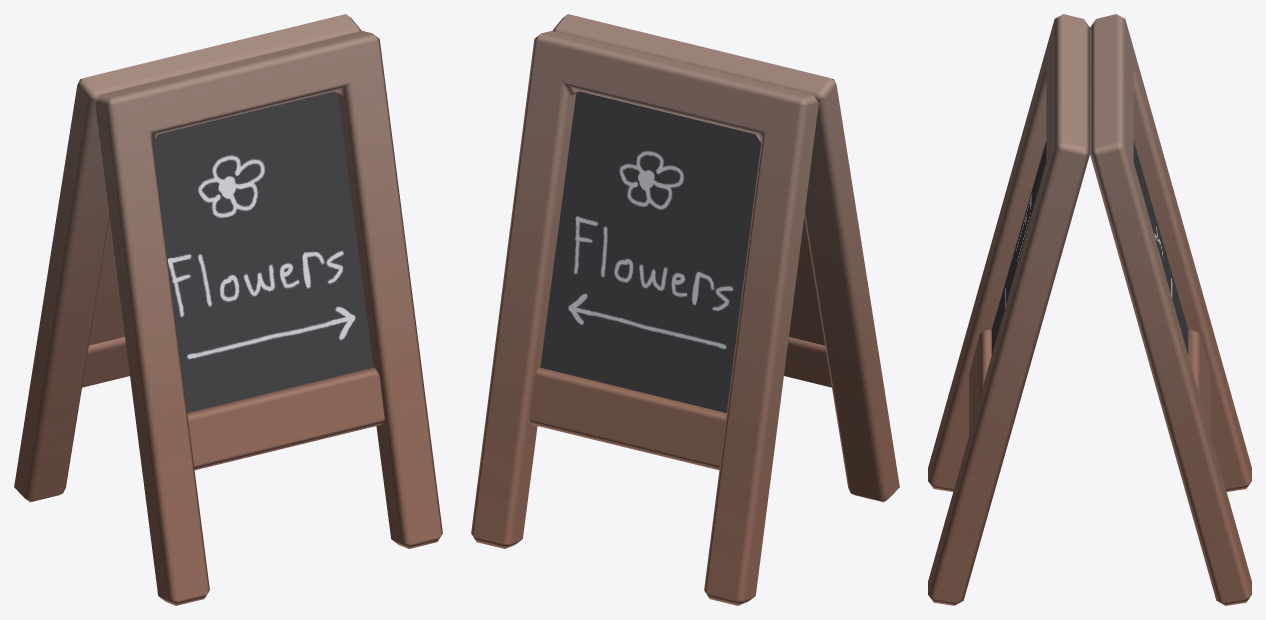
Rendered from FloristSign.fbx.
The picture shows the model from 3 angles, left to right: view 1: azimuth 30°, elevation 25°; view 2: azimuth 150°, elevation 25°; view 3: azimuth 270°, elevation 25°; orthographic projection.
Parts seen in each view (by area): view 1: FloristSign; view 2: FloristSign; view 3: FloristSign.
Part boxes in pixels (box(x1,y1,x2,y2)): FloristSign: box(14, 14, 442, 605); FloristSign: box(471, 14, 899, 605); FloristSign: box(928, 14, 1251, 605).
Size of the model in its own units: 84.84 by 137 by 86.73.
